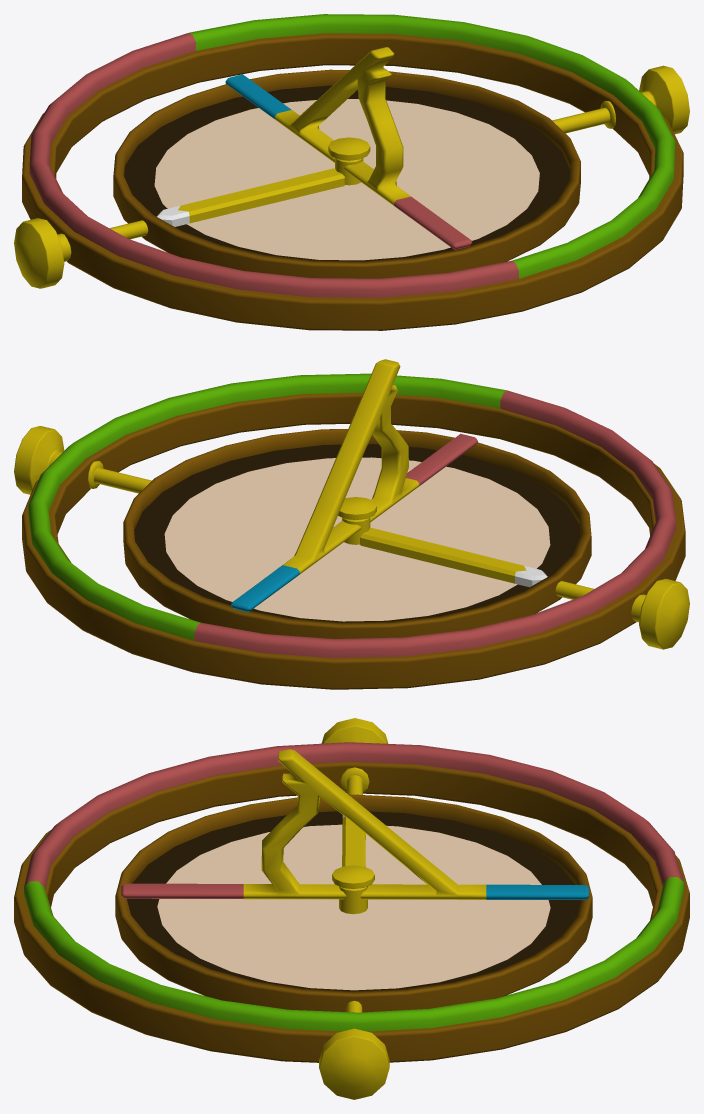
The model's file is UI_Compass.fbx.
3 renders of one model, top to bottom at view 1: azimuth 30°, elevation 25°; view 2: azimuth 150°, elevation 25°; view 3: azimuth 270°, elevation 25°, orthographic.
Parts seen in each view (by area): view 1: Faces2, Outer_Base, Rim, Health, Supplies, Big_Hand, Small_Hand, Screw2, Screw1, Screw3; view 2: Faces2, Outer_Base, Rim, Health, Supplies, Big_Hand, Small_Hand, Screw2, Screw1, Screw3; view 3: Faces2, Outer_Base, Rim, Supplies, Health, Big_Hand, Screw1, Screw2, Screw3, Small_Hand.
Part boxes in pixels (x1,y1,x2,y2): Faces2: [124, 85, 570, 260]; Outer_Base: [22, 33, 683, 330]; Rim: [113, 69, 580, 278]; Health: [29, 33, 518, 297]; Supplies: [189, 14, 675, 278]; Big_Hand: [225, 47, 472, 249]; Small_Hand: [156, 168, 345, 226]; Screw2: [14, 218, 148, 288]; Screw1: [552, 65, 689, 134]; Screw3: [328, 137, 370, 185]; Faces2: [134, 444, 580, 622]; Outer_Base: [22, 393, 685, 689]; Rim: [123, 429, 591, 638]; Health: [194, 390, 675, 657]; Supplies: [28, 373, 506, 640]; Big_Hand: [231, 359, 477, 612]; Small_Hand: [360, 528, 547, 587]; Screw2: [555, 579, 689, 649]; Screw1: [14, 426, 151, 494]; Screw3: [338, 497, 376, 544]; Faces2: [127, 811, 580, 990]; Outer_Base: [14, 761, 689, 1062]; Rim: [115, 794, 592, 1012]; Supplies: [24, 877, 683, 1031]; Health: [24, 742, 683, 889]; Big_Hand: [121, 749, 588, 899]; Screw1: [319, 1000, 389, 1099]; Screw2: [321, 718, 388, 794]; Screw3: [332, 865, 374, 914]; Small_Hand: [342, 815, 365, 866].
Bounding box in the file's own units: 3.85 × 1.03 × 3.38.
